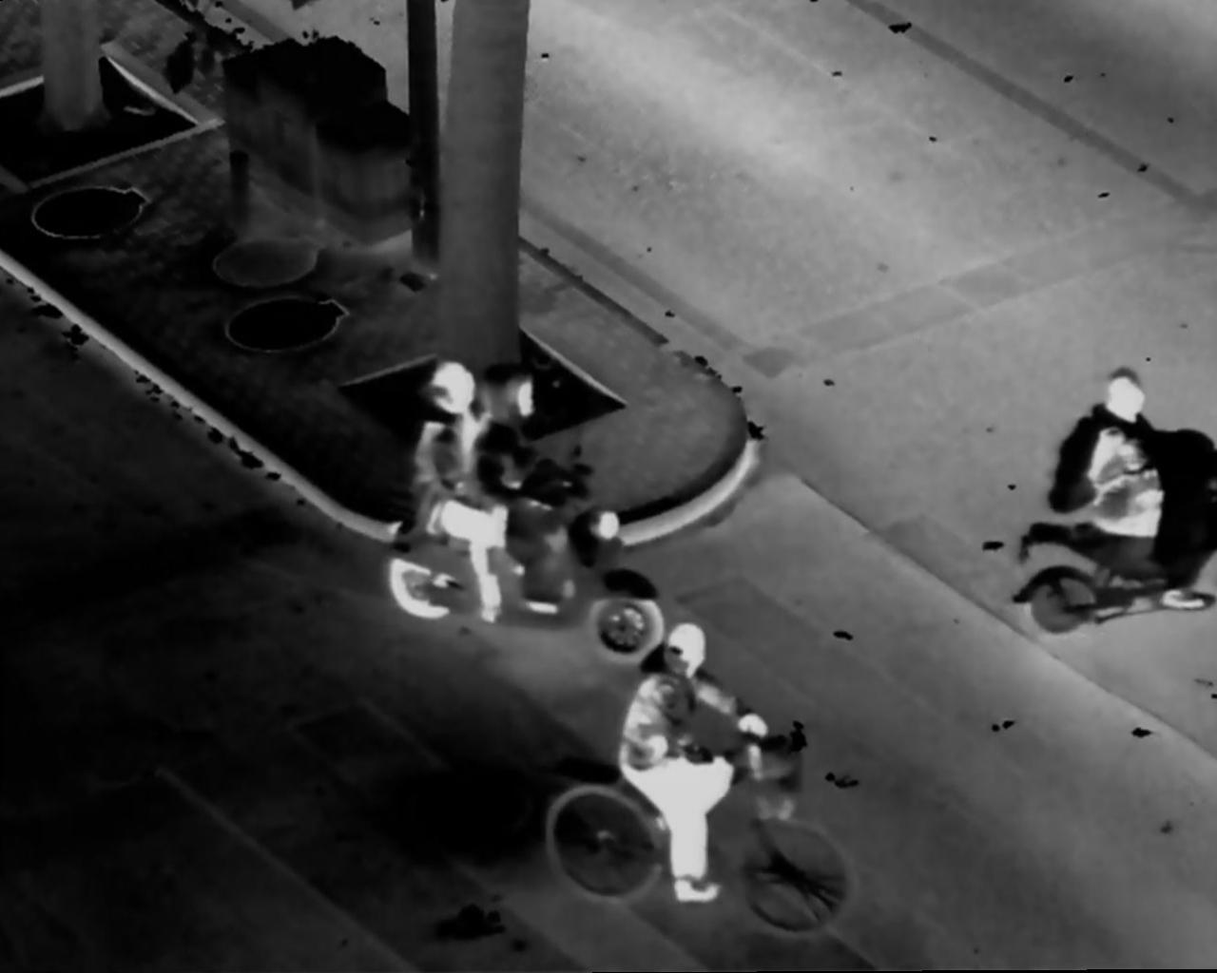person: (619, 618, 769, 911), (1057, 370, 1189, 609), (489, 385, 590, 622), (412, 363, 490, 628)
